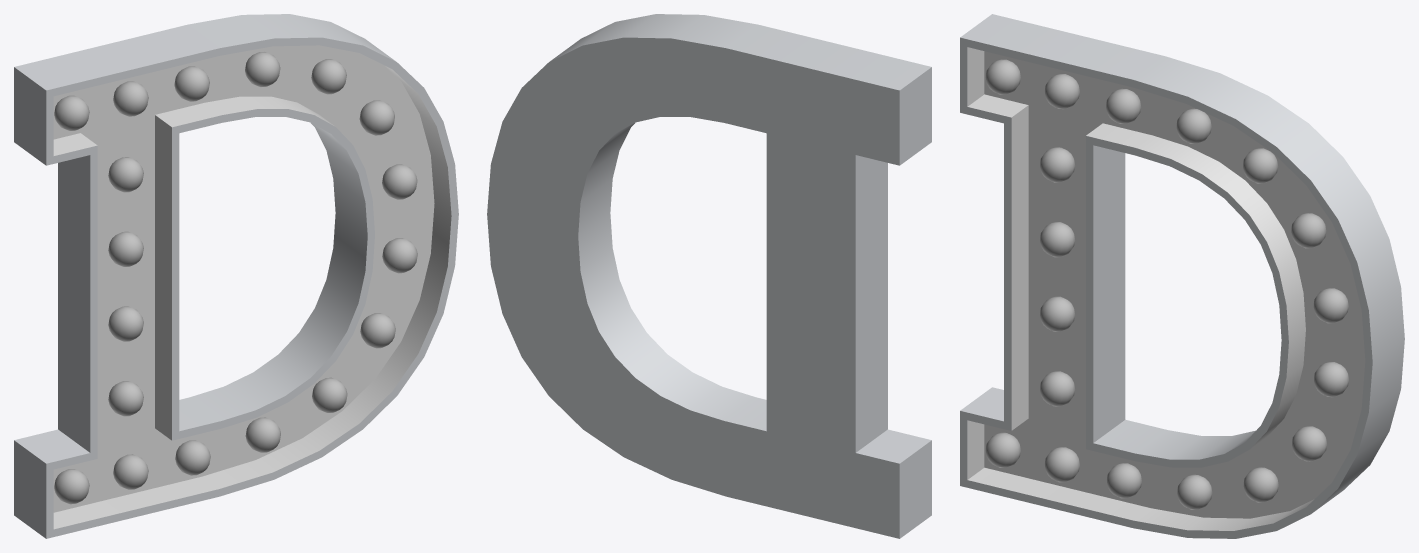
File: LettersBulb01_D.FBX
The picture shows the model from 3 angles, left to right: view 1: azimuth 30°, elevation 25°; view 2: azimuth 150°, elevation 25°; view 3: azimuth 330°, elevation 25°; orthographic projection.
Parts seen in each view (by area): view 1: LettersBulb01_D; view 2: LettersBulb01_D; view 3: LettersBulb01_D.
Part boxes in pixels (left/top/right/bottom): LettersBulb01_D: left=14, top=14, right=458, bottom=538; LettersBulb01_D: left=487, top=14, right=931, bottom=538; LettersBulb01_D: left=960, top=14, right=1404, bottom=538.
Size of what is drawn, in the model's own units: 1.15 by 1.2 by 0.1563.
